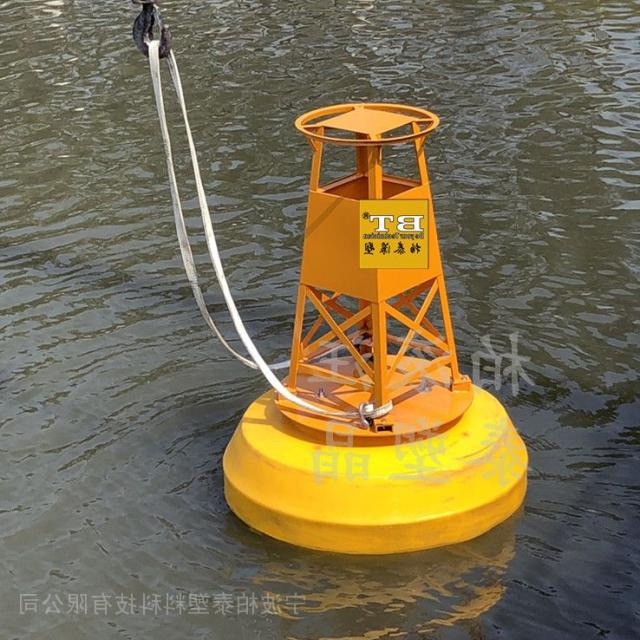buoy: (214, 87, 534, 558)
